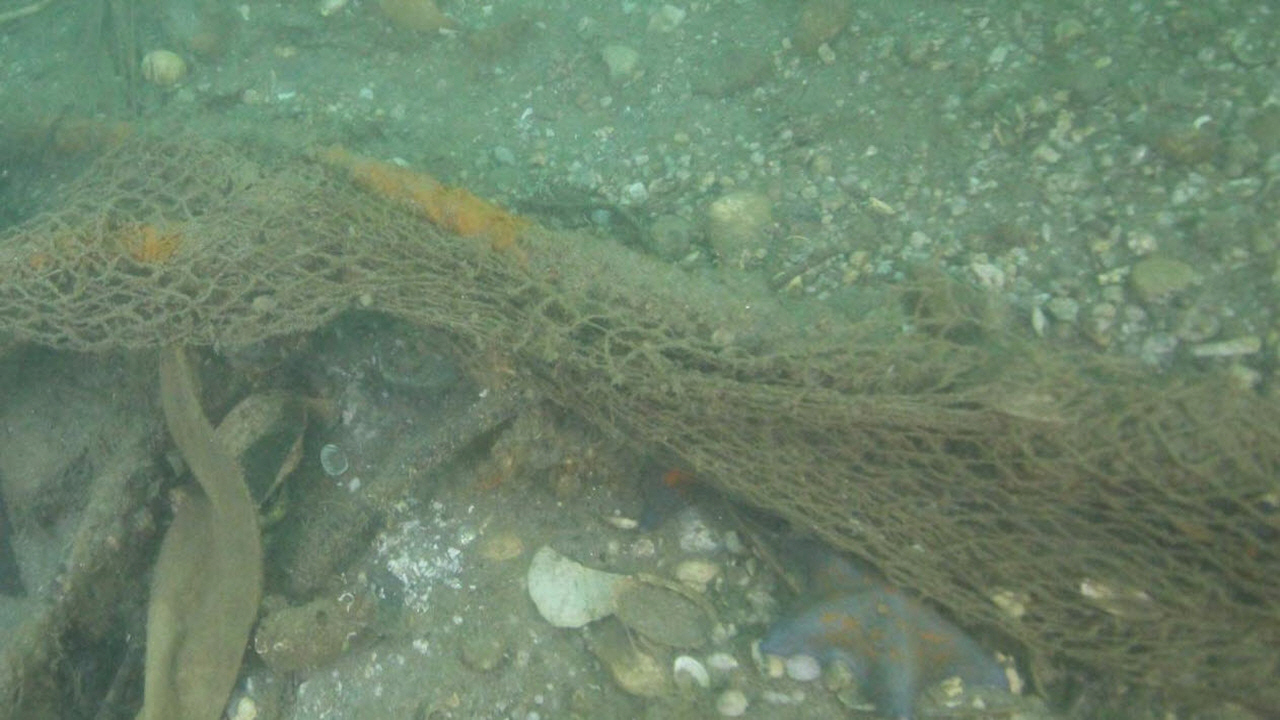fish net: (0, 133, 1280, 690)
